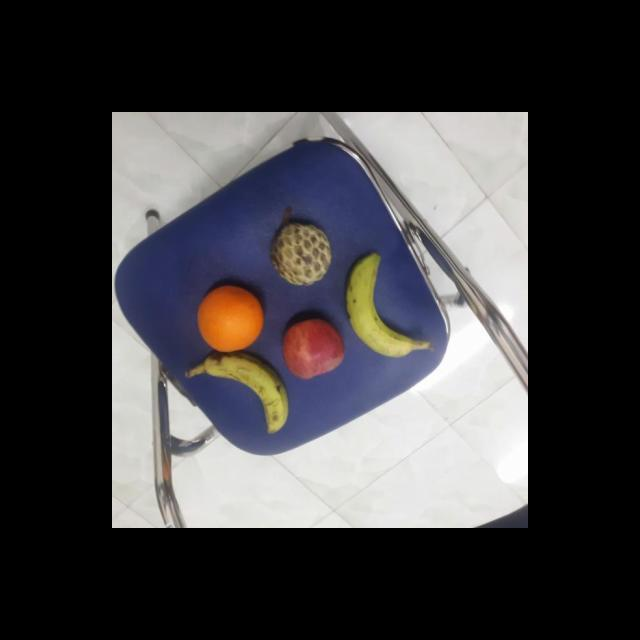Sakya fruit: (268, 222, 336, 288)
apple: (280, 316, 348, 380)
banana: (341, 251, 424, 359), (202, 350, 292, 437)
orange: (193, 281, 266, 356)
